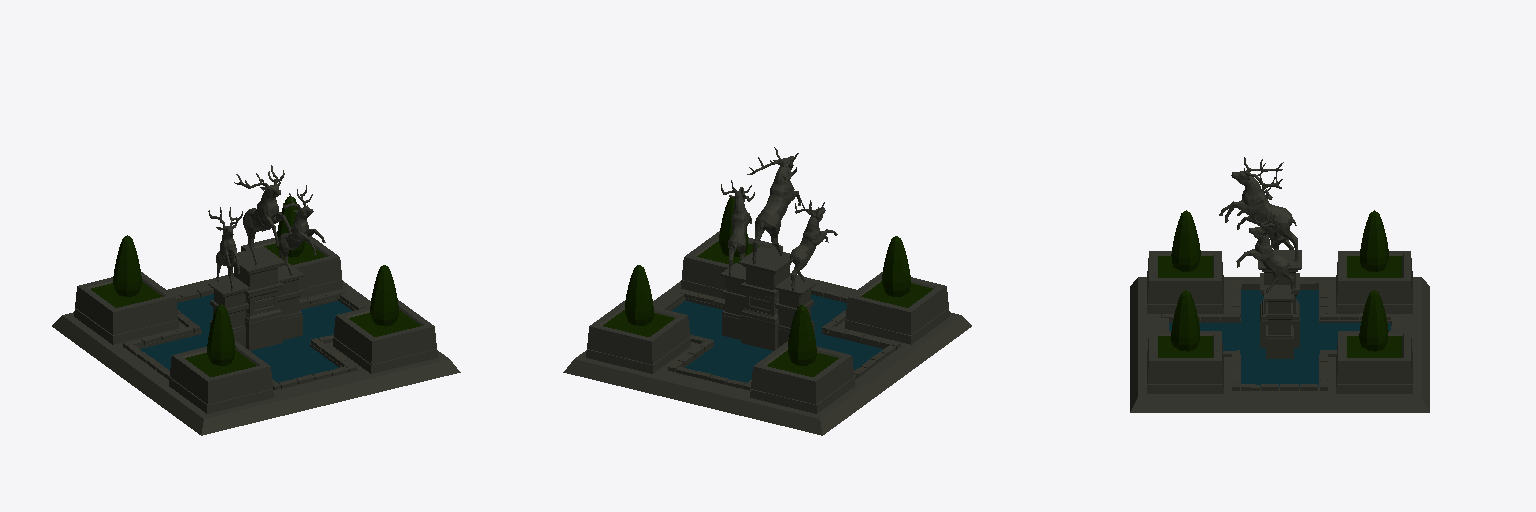
File: TownCenter_SecondAge_Level3_Cube.obj
3 views of the same model, side by side, from view 1: azimuth 30°, elevation 25°; view 2: azimuth 150°, elevation 25°; view 3: azimuth 270°, elevation 25° (orthographic).
Visible parts, largest first — view 1: TownCenter_SecondAge_Level3_Cube.219; view 2: TownCenter_SecondAge_Level3_Cube.219; view 3: TownCenter_SecondAge_Level3_Cube.219.
Part boxes in pixels (left/top/right/bottom): TownCenter_SecondAge_Level3_Cube.219: left=52, top=165, right=460, bottom=435; TownCenter_SecondAge_Level3_Cube.219: left=563, top=147, right=971, bottom=435; TownCenter_SecondAge_Level3_Cube.219: left=1130, top=157, right=1429, bottom=412.
Bounding box in the file's own units: 1.86 × 1.28 × 1.86.